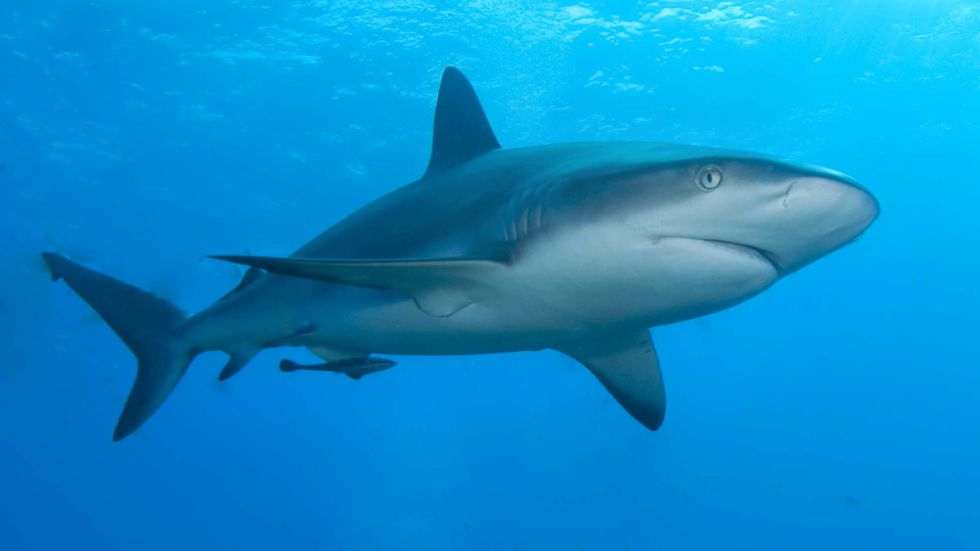shark: (32, 50, 886, 466)
